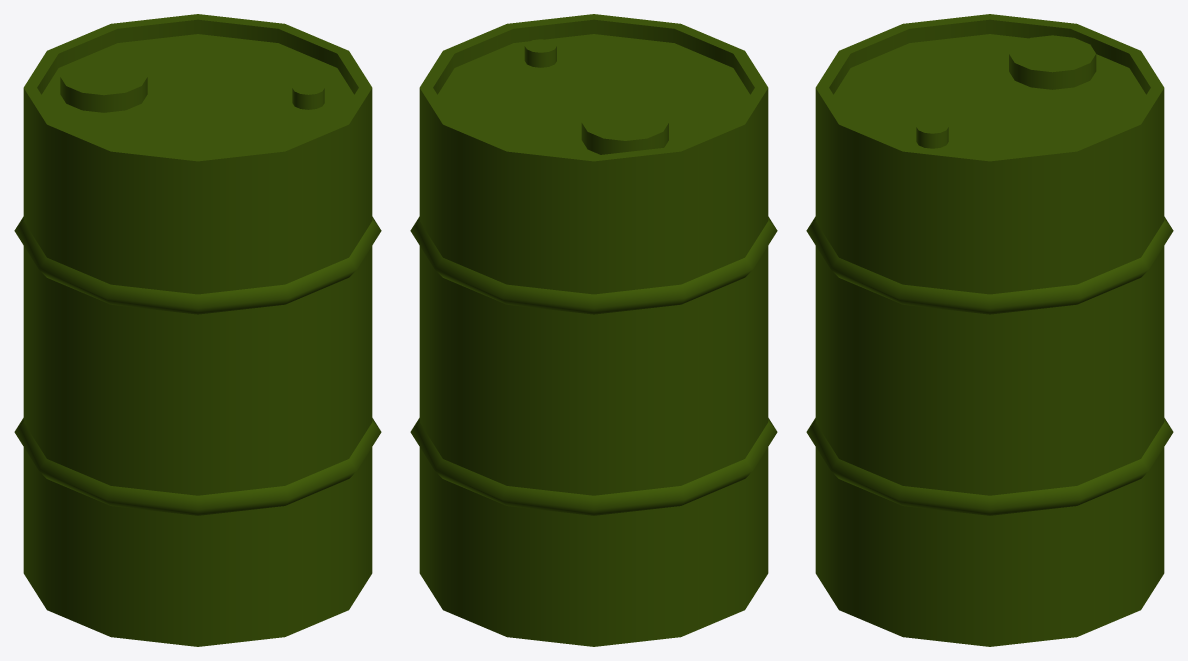
File: bochka.fbx
The picture shows the model from 3 angles, left to right: view 1: azimuth 30°, elevation 25°; view 2: azimuth 150°, elevation 25°; view 3: azimuth 270°, elevation 25°; orthographic projection.
Visible parts, largest first — view 1: pCylinder2; view 2: pCylinder2; view 3: pCylinder2.
Part boxes in pixels (bbox=[...]): pCylinder2: bbox=[14, 14, 381, 646]; pCylinder2: bbox=[410, 14, 777, 646]; pCylinder2: bbox=[806, 14, 1173, 646].
Size of the model in its own units: 2.11 by 3.09 by 2.11.
